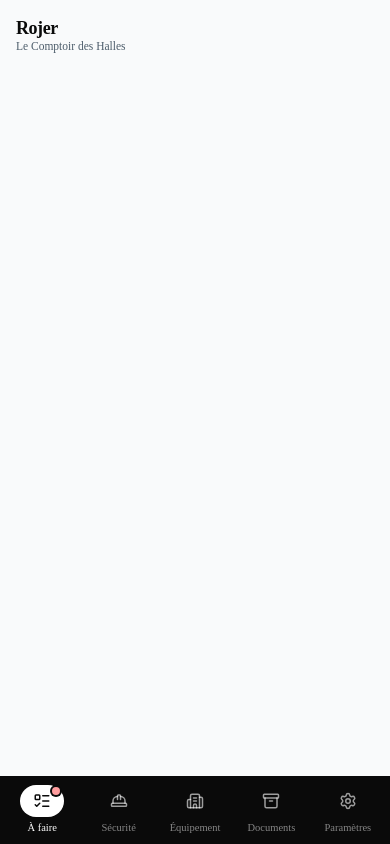
Scenario: NavigationMobile › un lien vers la page où l'on est referme la feuille
What coordinates should you click on to do the following:
click the button "À faire"
I would click on:
 (42, 810)
Its box is [4,782,80,838].
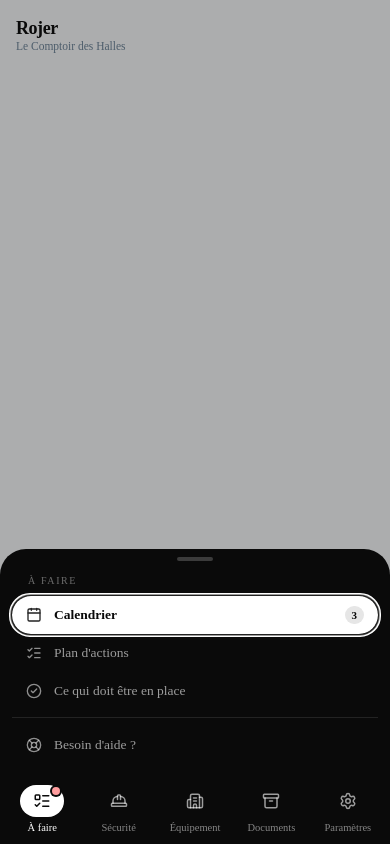
What coordinates should you click on to do the following:
click the link "Calendrier 3"
I would click on:
 (86, 615)
Its box is [12,596,378,634].
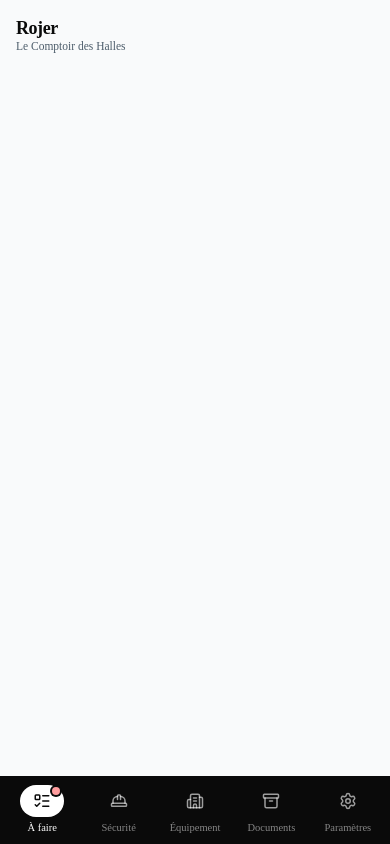
Expected: the dialog is gone
